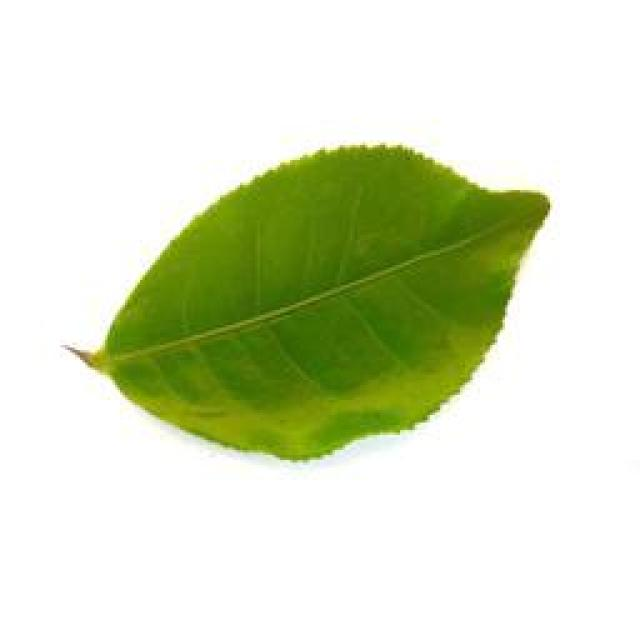Healthy: (62, 139, 550, 467)
